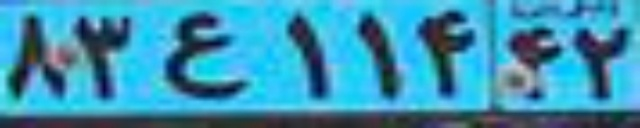1: (352, 11, 398, 97), (284, 13, 330, 98)
2: (573, 25, 629, 100)
3: (74, 15, 134, 99)
4: (418, 9, 478, 96), (508, 26, 562, 100)
8: (6, 14, 68, 98)
ain: (162, 13, 249, 98)
